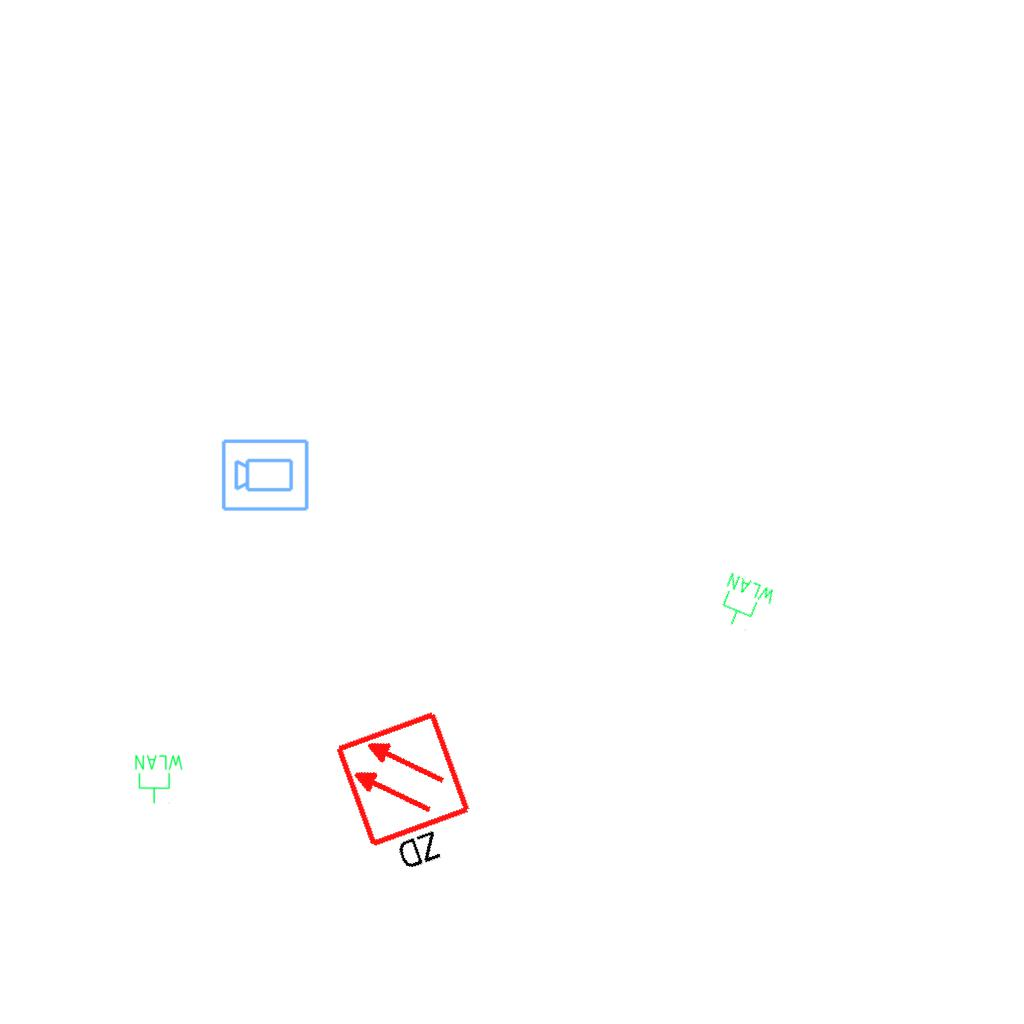KFO_Kamera_mit_Festobjektiv: (220, 436, 311, 513)
WLAN: (711, 570, 779, 638), (133, 753, 185, 805)
ZD_Melder_in_Zwischendecke_mit_Revisionsoeffnung_mind_40_x_40_cm: (331, 706, 491, 887)
